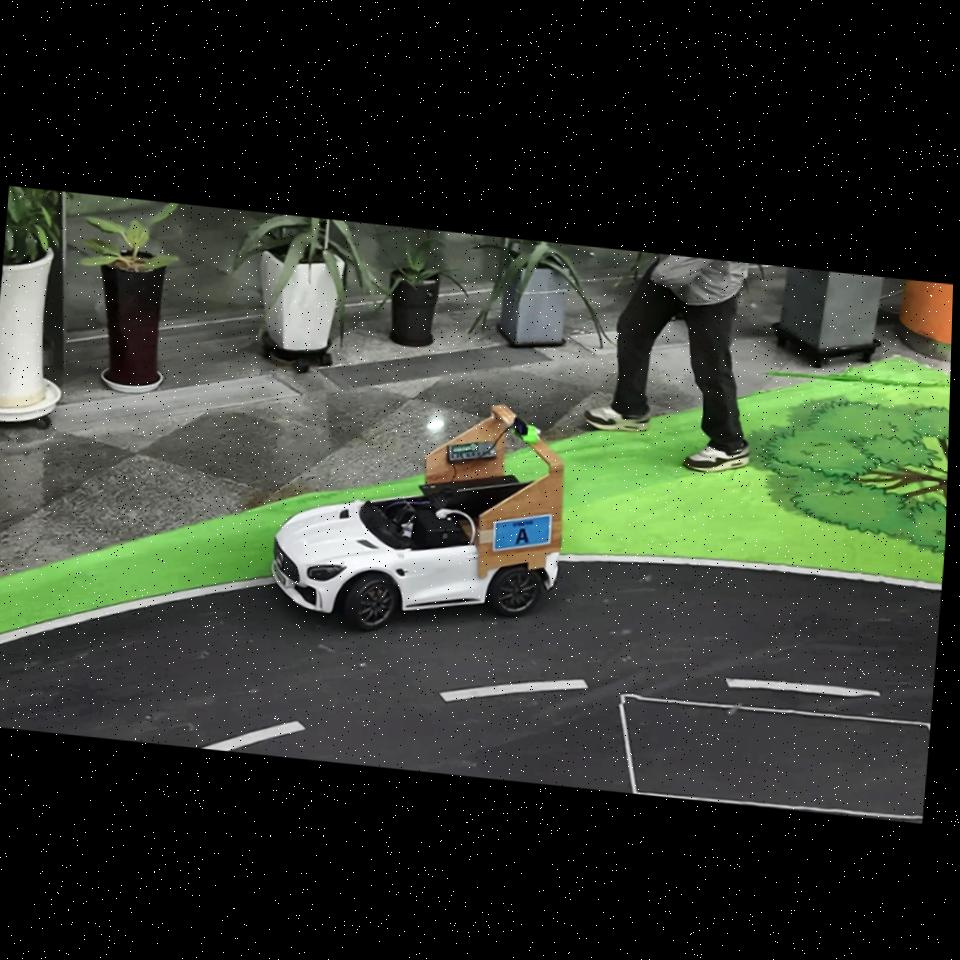broken_line: (440, 679, 588, 702), (201, 721, 305, 751), (726, 678, 880, 697)
